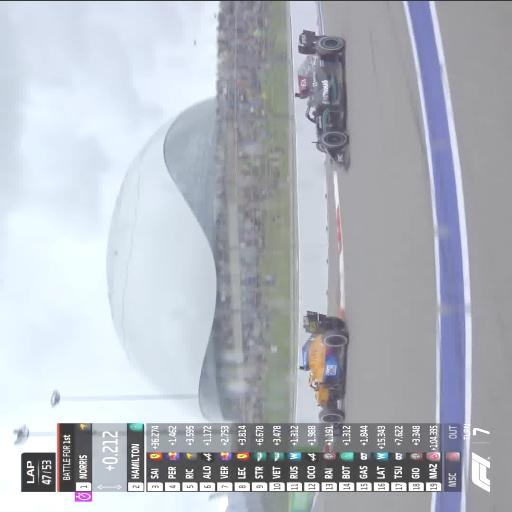f1_car: (295, 29, 348, 170), (299, 310, 348, 423)
